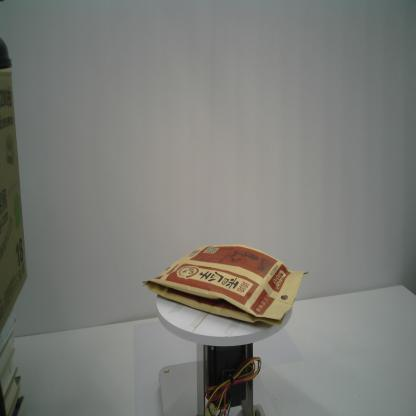Dried Food: (141, 241, 310, 331)
